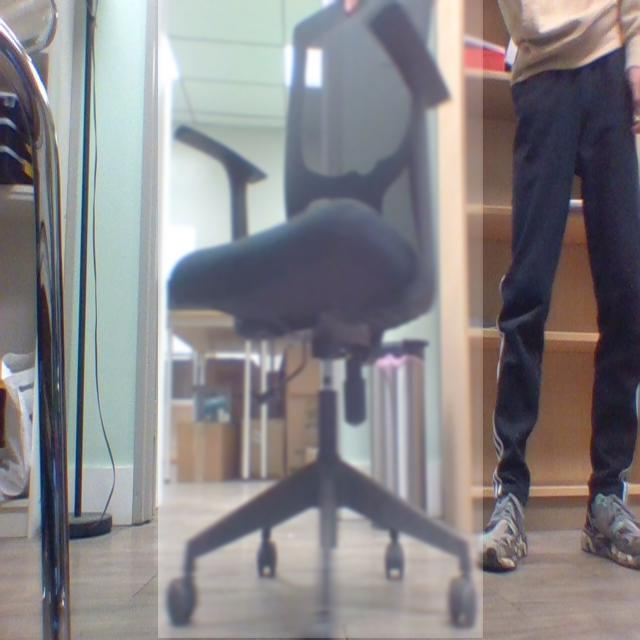chair: (163, 0, 479, 640)
